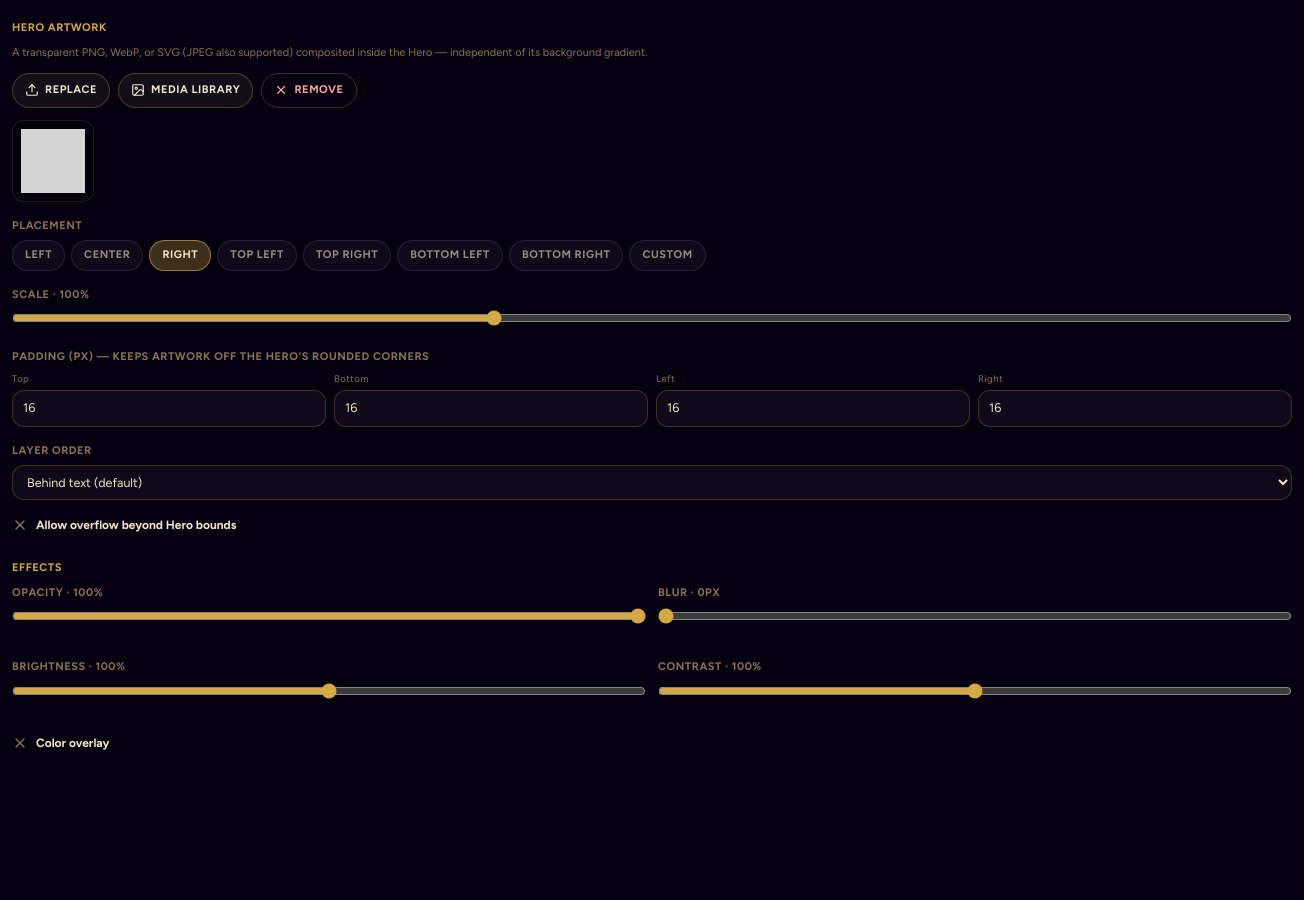
placement buttons update placement and mark the active one pressed
Step 1. Click the button with test id "hero-artwork-placement-topLeft" → (257, 255), box [217,240,297,270]
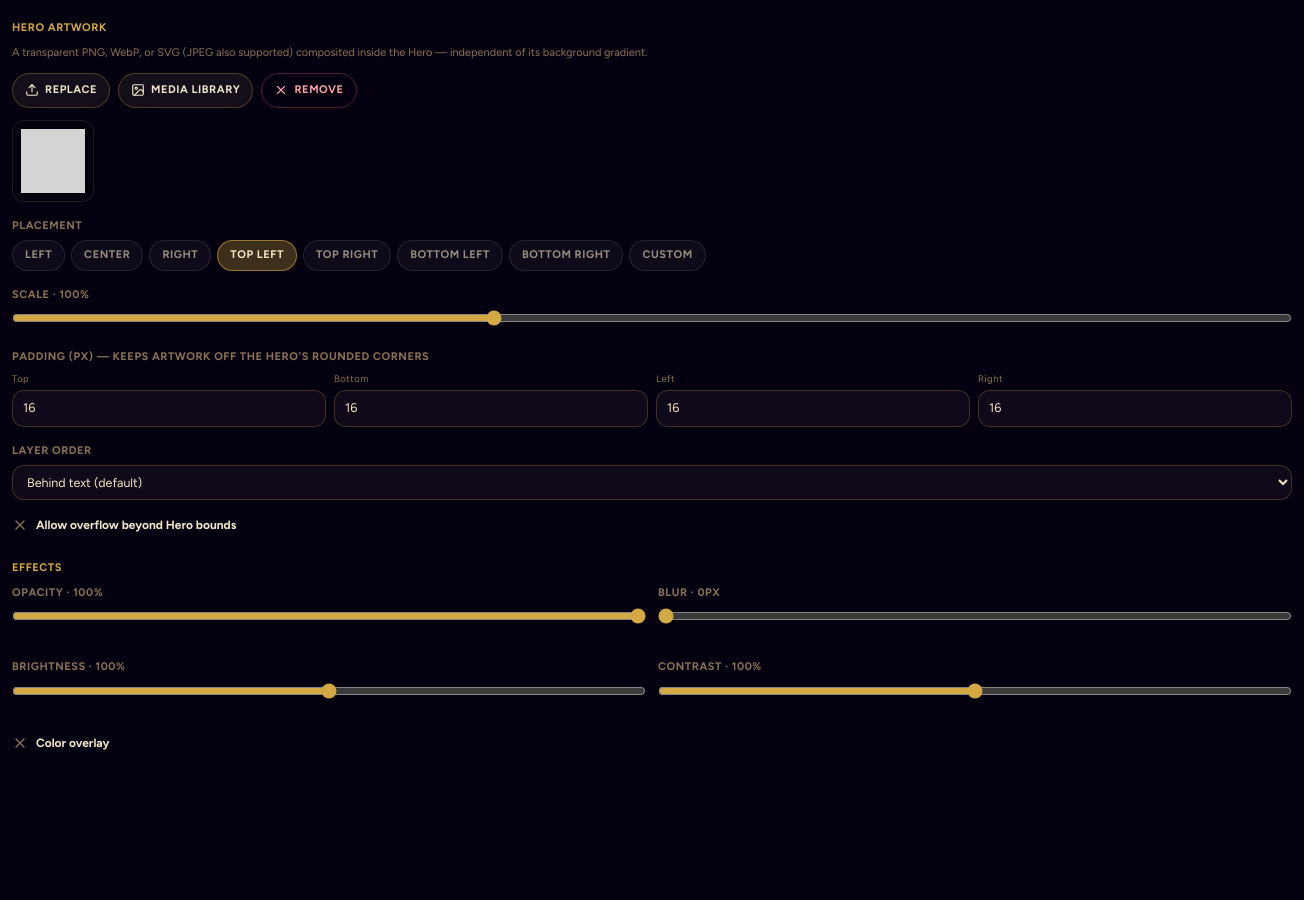
Result: the button with test id "hero-artwork-placement-topLeft" is pressed at [217,240,297,270]
